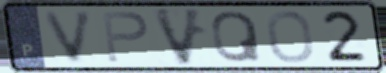2: (319, 9, 371, 64)
O: (265, 9, 317, 65)
P: (100, 10, 152, 65)
Q: (209, 9, 264, 65)
V: (149, 6, 207, 68), (41, 9, 98, 66)
